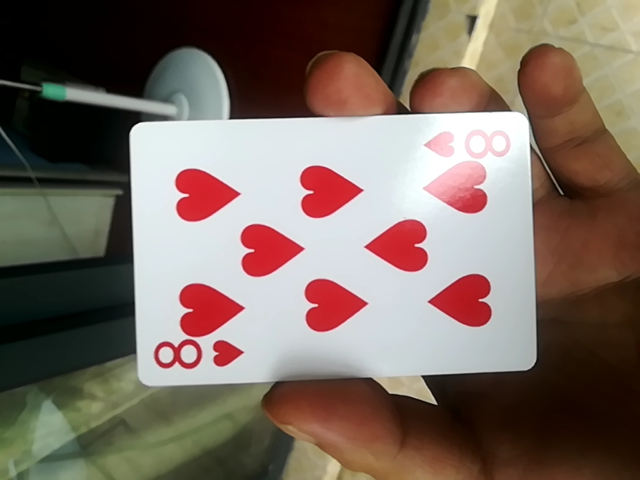hx 8: (139, 111, 535, 395)
